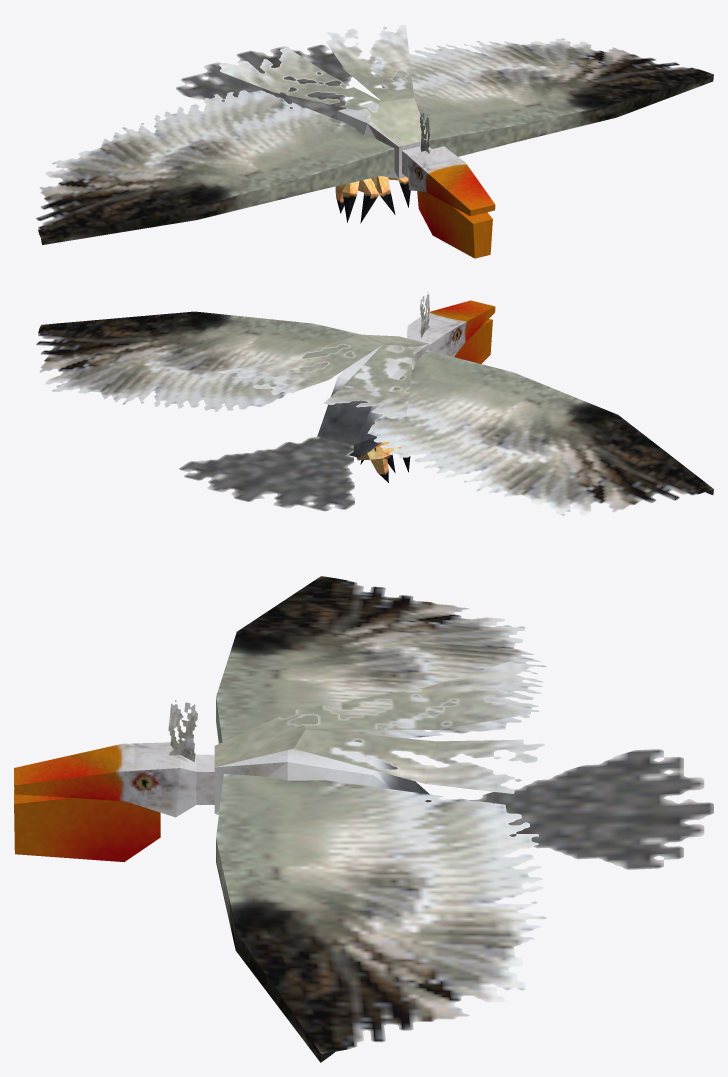
File: raiko.obj
The picture shows the model from 3 angles, top to bottom: view 1: azimuth 30°, elevation 25°; view 2: azimuth 150°, elevation 25°; view 3: azimuth 270°, elevation 25°; orthographic projection. The views are drawn at different scales.
Parts seen in each view (by area): view 1: WingRight, WingLeft, Body, Head, Mouth, LegRight, LegLeft; view 2: WingRight, WingLeft, Body, Head, Mouth, LegRight; view 3: WingLeft, Body, WingRight, Head, Mouth.
Part boxes in pixels (x1=…): WingRight: x1=36, y1=90, x2=394, y2=244; WingLeft: x1=370, y1=38, x2=713, y2=156; Body: x1=176, y1=24, x2=429, y2=178; Head: x1=402, y1=112, x2=495, y2=216; Mouth: x1=417, y1=191, x2=492, y2=258; LegRight: x1=335, y1=178, x2=378, y2=223; LegLeft: x1=371, y1=176, x2=410, y2=214; WingRight: x1=367, y1=350, x2=713, y2=515; WingLeft: x1=36, y1=311, x2=360, y2=411; Body: x1=179, y1=334, x2=429, y2=511; Head: x1=407, y1=292, x2=495, y2=356; Mouth: x1=454, y1=319, x2=492, y2=363; LegRight: x1=356, y1=441, x2=410, y2=482; WingLeft: x1=216, y1=774, x2=546, y2=1062; Body: x1=214, y1=661, x2=713, y2=869; WingRight: x1=216, y1=576, x2=546, y2=743; Head: x1=14, y1=700, x2=214, y2=817; Mouth: x1=14, y1=790, x2=160, y2=862.
Bounding box in the file's own units: 9.28 × 1.91 × 5.75.
